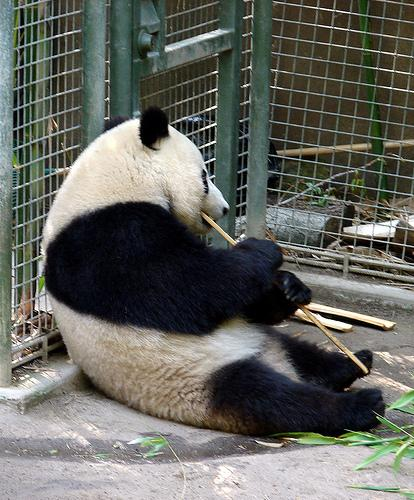panda: (42, 107, 384, 435)
